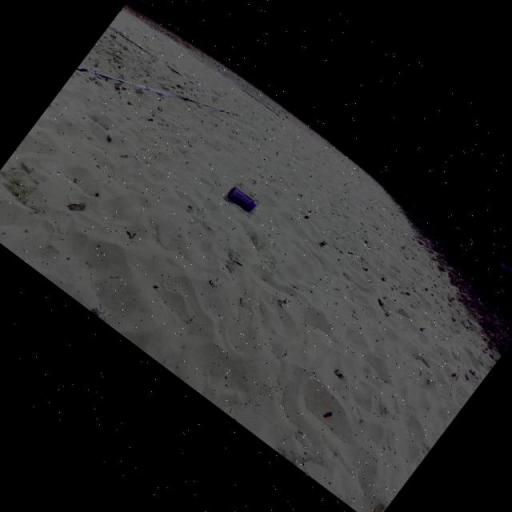bottle: (223, 183, 262, 219)
